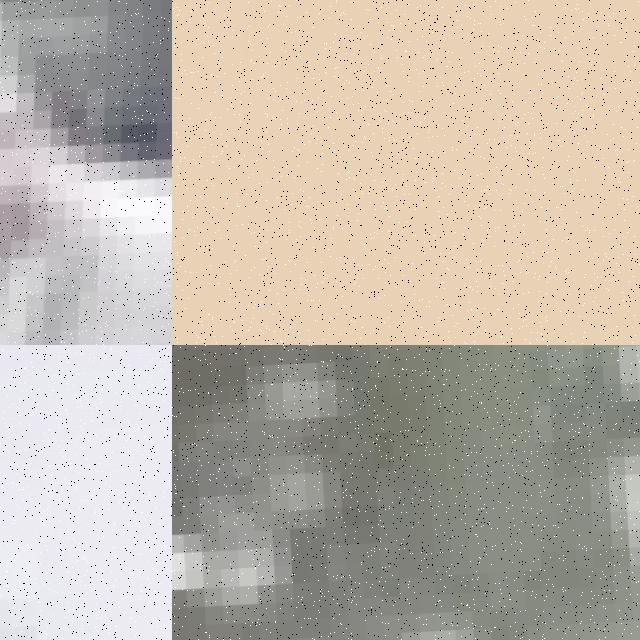drone: (172, 0, 640, 345), (0, 0, 172, 345), (0, 345, 172, 640)
